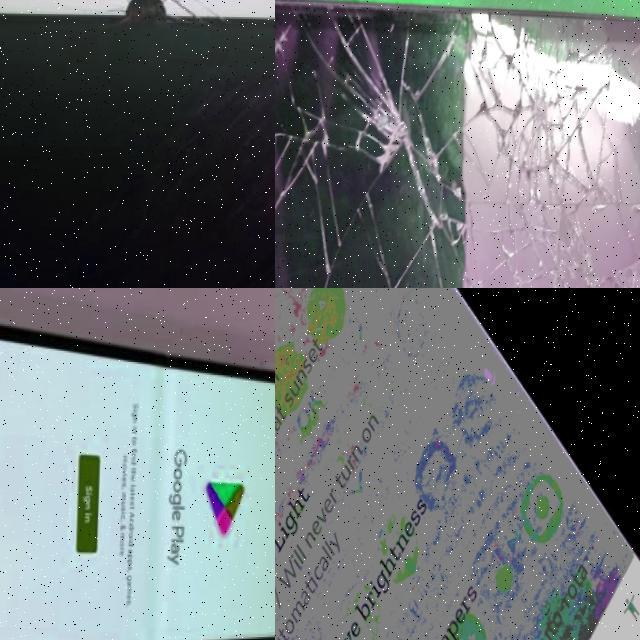dead pixel: (121, 0, 175, 41)
screen crack: (275, 6, 640, 288), (96, 0, 229, 14)
